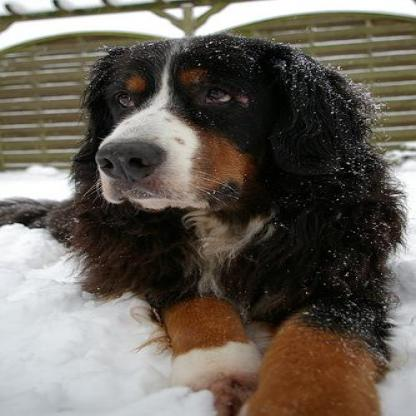Bernese_mountain_dog: (0, 33, 397, 413)
